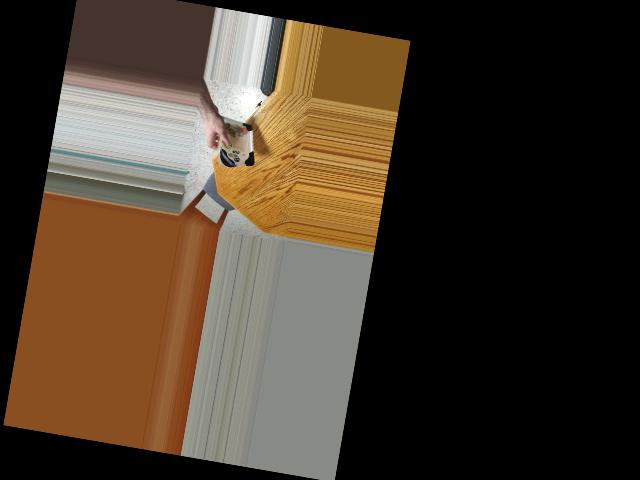cheese: (210, 107, 259, 172)
